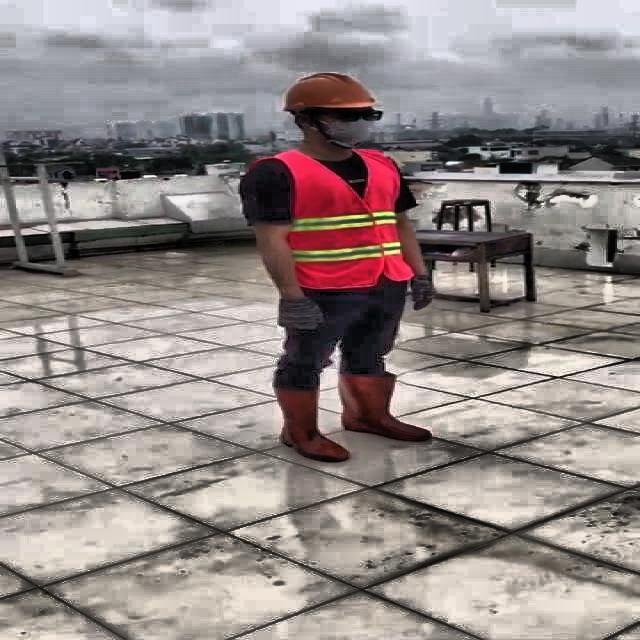safety_helmet: (277, 70, 379, 111)
safety_jacket: (248, 150, 414, 290)
